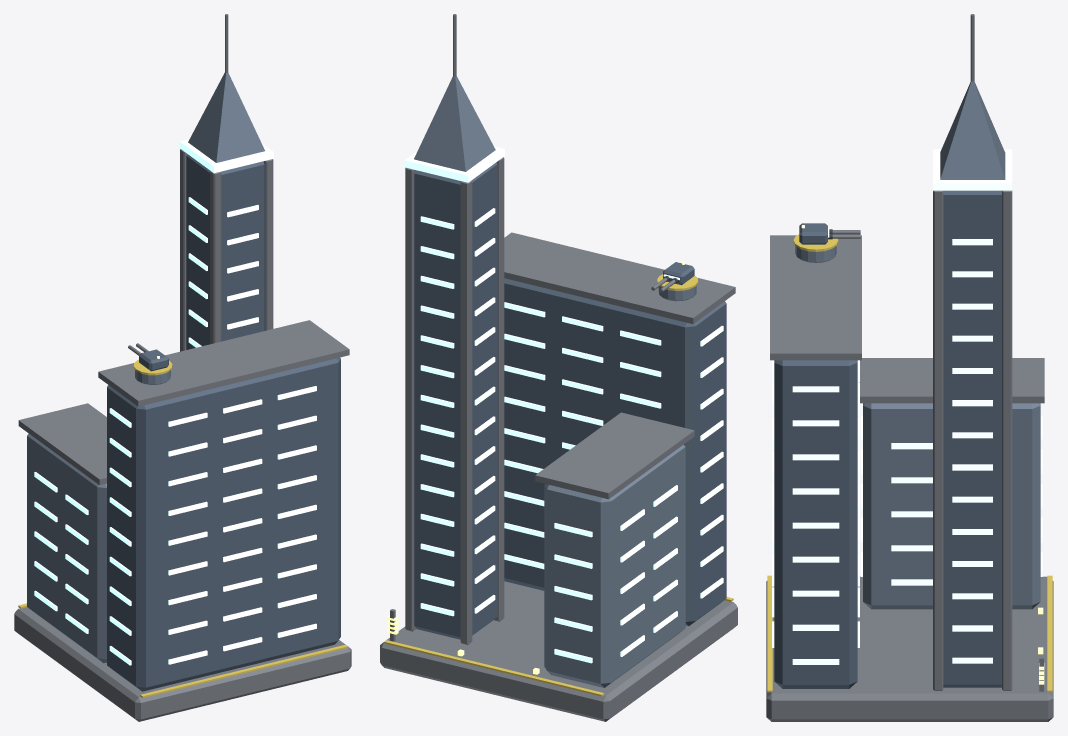
Rendered from zone_high_6_t4.glb.
3 renders of one model, left to right at view 1: azimuth 30°, elevation 25°; view 2: azimuth 150°, elevation 25°; view 3: azimuth 270°, elevation 25°, orthographic. The views are drawn at different scales.
Parts seen in each view (by area): view 1: zone_high_6_t4, detail; view 2: zone_high_6_t4, detail; view 3: zone_high_6_t4, detail.
Boxes of the visible parts, x1,y1,x2,y2 form: zone_high_6_t4: (14, 72, 351, 721); detail: (18, 14, 347, 697); zone_high_6_t4: (380, 76, 737, 721); detail: (384, 14, 733, 696); zone_high_6_t4: (766, 81, 1053, 721); detail: (767, 14, 1052, 692).
Bounding box in the file's own units: 27.5 × 72.72 × 27.5.
